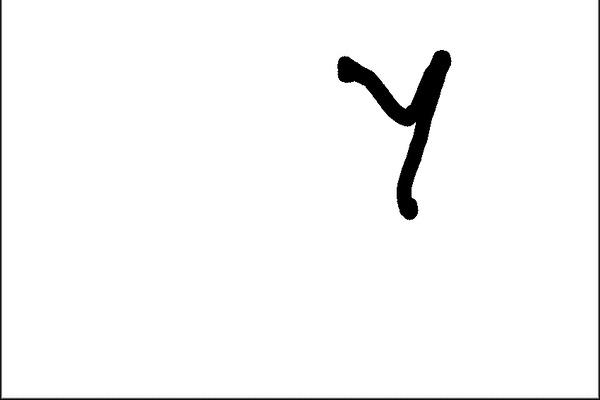Y: (317, 38, 459, 228)
